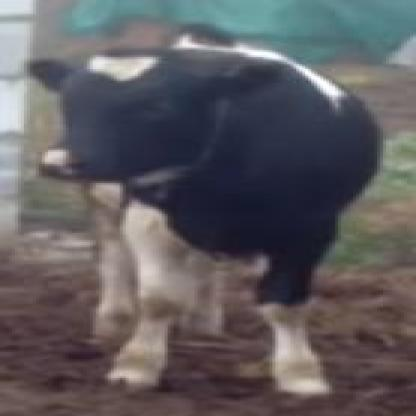cow: (30, 26, 383, 393)
